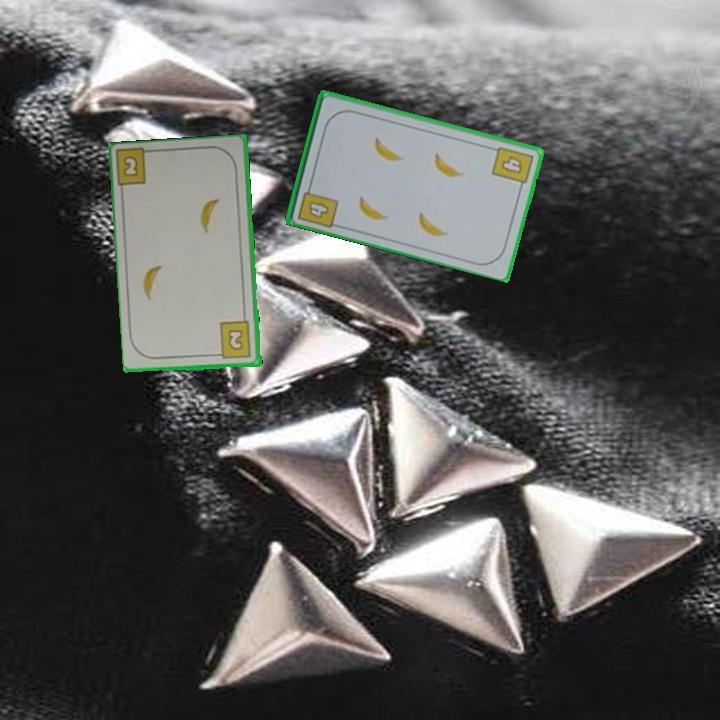2b: (212, 318, 254, 362), (119, 152, 141, 180)
4b: (294, 179, 341, 230), (488, 143, 536, 192)
